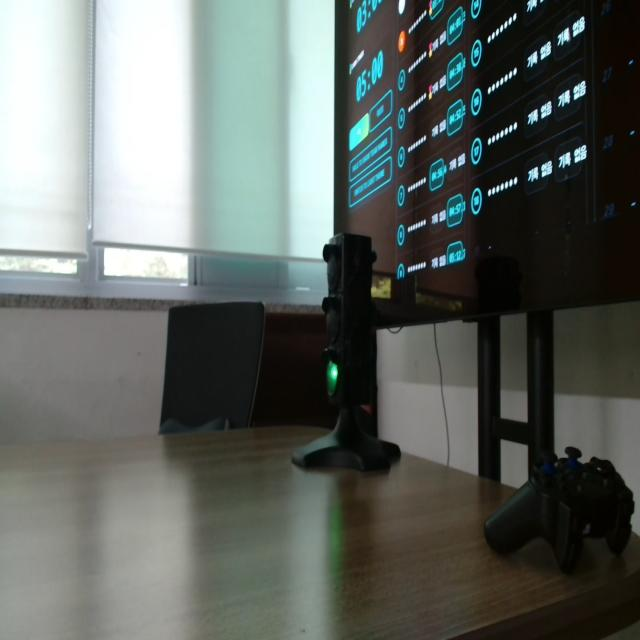green_light: (327, 363, 338, 395)
